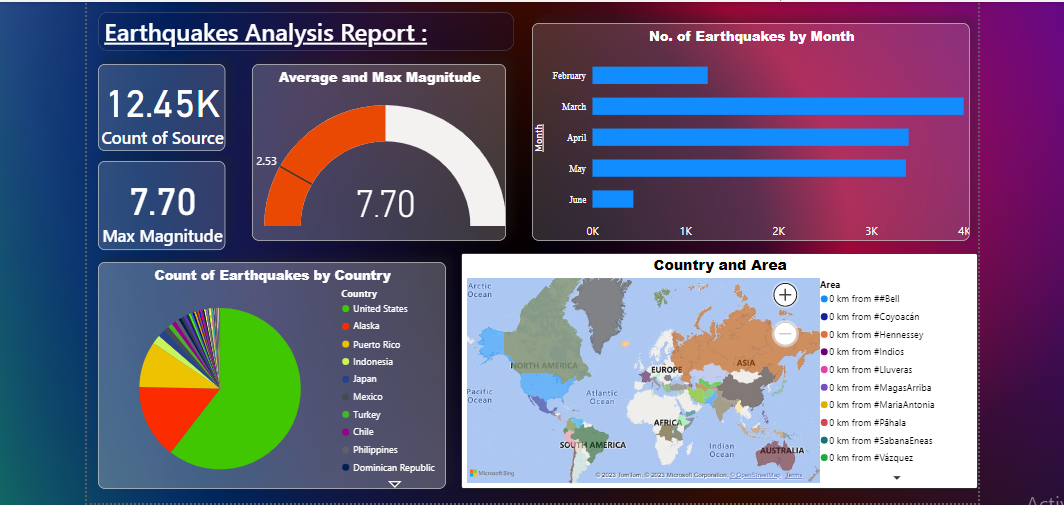

This screenshot's page, from the dashboard's own definition file:
{"tool":"powerbi","page":{"name":"Page 1","canvas":[1280,720],"ordinal":0},"visuals":[{"type":"filledMap","fields":{"Category":["Earthquakes_analysis.Country"],"Series":["Earthquakes_analysis.Area"]},"box":[537.5,360.7,743,339.2],"z":1000},{"type":"clusteredBarChart","title":"No. of Earthquakes by Month","fields":{"Category":["Earthquakes_analysis.Month.Variation.Date Hierarchy.Month"],"Y":["CountNonNull(Earthquakes_analysis.No. of Earthquakes)"]},"box":[639.5,30.2,629.5,313.3],"z":2000},{"type":"pieChart","title":"Count of Earthquakes by Country","fields":{"Y":["CountNonNull(Earthquakes_analysis.Date)"],"Category":["Earthquakes_analysis.Country"]},"box":[15.8,373.7,500.1,326.2],"z":2001},{"type":"card","fields":{"Values":["CountNonNull(Earthquakes_analysis.Source)"]},"box":[15.8,89.1,182.5,125],"z":2002},{"type":"card","fields":{"Values":["Max(Earthquakes_analysis.Magnitude)"]},"box":[15.8,228.5,182.5,127.9],"z":2003},{"type":"gauge","title":"Average and Max Magnitude ","fields":{"Y":["Max(Earthquakes_analysis.Magnitude)"],"TargetValue":["Avg(Earthquakes_analysis.Magnitude)1"]},"box":[237.1,89.1,365,254.4],"z":2004},{"type":"shape","box":[15.8,14.4,597.8,56],"z":2005}]}

Visuals, with their boxes in screenshot pixels (x1, y1, x2, y2):
filledMap - Earthquakes_analysis.Country x Earthquakes_analysis.Area: left=460, top=252, right=973, bottom=486
"No. of Earthquakes by Month" clusteredBarChart: left=530, top=24, right=965, bottom=240
"Count of Earthquakes by Country" pieChart: left=100, top=261, right=445, bottom=486
card - CountNonNull(Earthquakes_analysis.Source): left=100, top=64, right=226, bottom=151
card - Max(Earthquakes_analysis.Magnitude): left=100, top=161, right=226, bottom=249
"Average and Max Magnitude " gauge: left=252, top=64, right=505, bottom=240
shape: left=100, top=13, right=512, bottom=51
